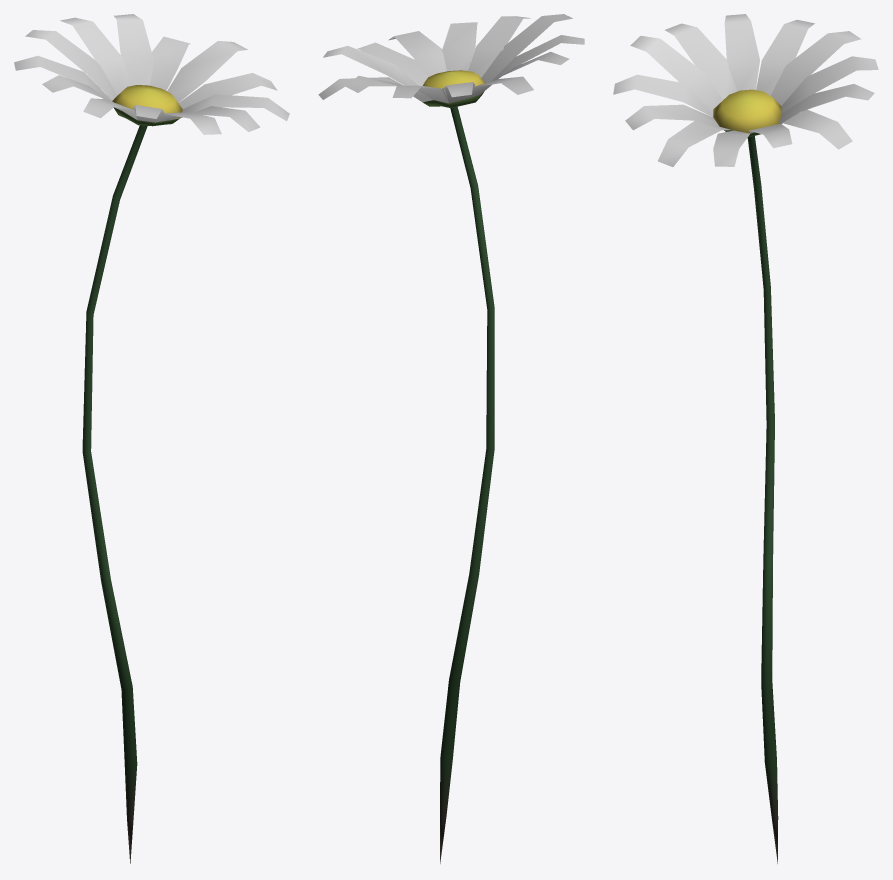
The picture shows the model from 3 angles, left to right: view 1: azimuth 30°, elevation 25°; view 2: azimuth 150°, elevation 25°; view 3: azimuth 270°, elevation 25°; orthographic projection. The views are drawn at different scales.
Parts seen in each view (by area): view 1: alt1.276; view 2: alt1.276; view 3: alt1.276.
Boxes of the visible parts, x1,y1,x2,y2 form: alt1.276: (14, 14, 289, 863); alt1.276: (318, 14, 584, 863); alt1.276: (613, 14, 878, 863).
Size of the model in its own units: 0.1423 by 0.5 by 0.1496.
